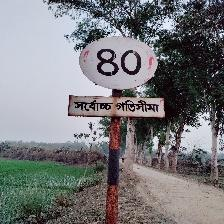Speed-limit: (67, 37, 164, 119)
